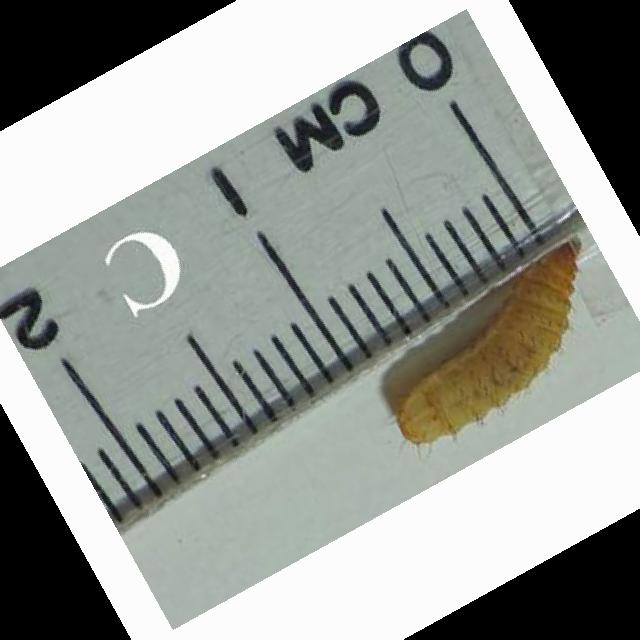Maggot: (395, 236, 593, 450)
